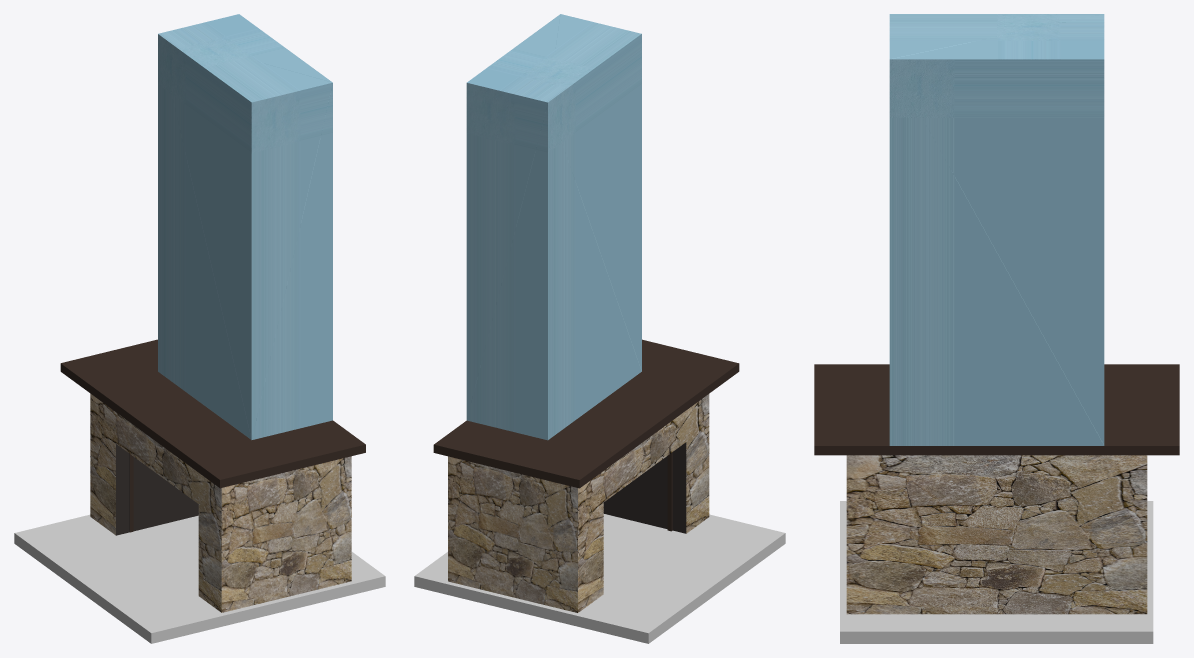
Rendered from chimney3.glb.
3 views of the same model, side by side, from view 1: azimuth 30°, elevation 25°; view 2: azimuth 150°, elevation 25°; view 3: azimuth 270°, elevation 25° (orthographic). The views are drawn at different scales.
Visible parts, largest first — view 1: Casework 6 Casework 6 [271720], main_change, Cube, Casework 9 Casework 9 [273579], Object004; view 2: Casework 6 Casework 6 [271720], main_change, Cube, Casework 9 Casework 9 [273579], Object004; view 3: Casework 6 Casework 6 [271720], main_change, Casework 9 Casework 9 [273579], Cube.
Part boxes in pixels (x1,y1,x2,y2): Casework 6 Casework 6 [271720]: [158, 14, 332, 439]; main_change: [90, 393, 351, 612]; Cube: [14, 514, 385, 643]; Casework 9 Casework 9 [273579]: [60, 339, 365, 488]; Object004: [116, 444, 198, 535]; Casework 6 Casework 6 [271720]: [466, 14, 641, 440]; main_change: [448, 394, 709, 612]; Cube: [414, 514, 785, 643]; Casework 9 Casework 9 [273579]: [433, 339, 739, 488]; Object004: [603, 442, 686, 533]; Casework 6 Casework 6 [271720]: [889, 14, 1104, 445]; main_change: [846, 455, 1147, 614]; Casework 9 Casework 9 [273579]: [814, 364, 1179, 455]; Cube: [840, 501, 1153, 643].
Bounding box in the file's own units: 1.44 × 2.91 × 1.7.
6 materials, 2 textured.
